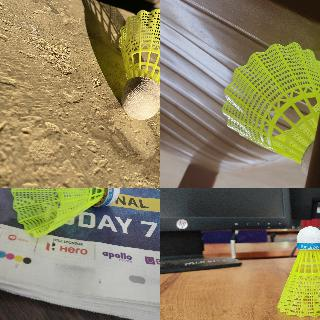shuttlecock: (222, 41, 319, 175), (11, 188, 120, 239), (117, 8, 159, 120), (275, 225, 319, 316)
